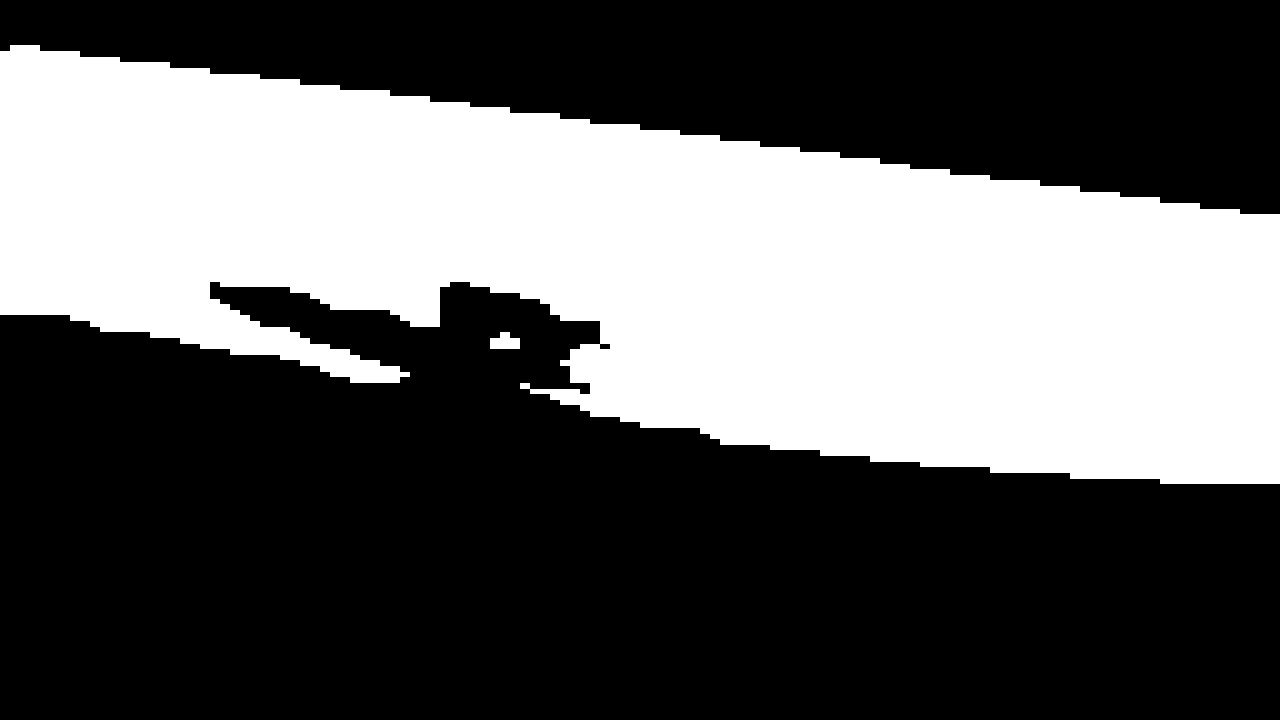Turbine: (8, 37, 1280, 489)
